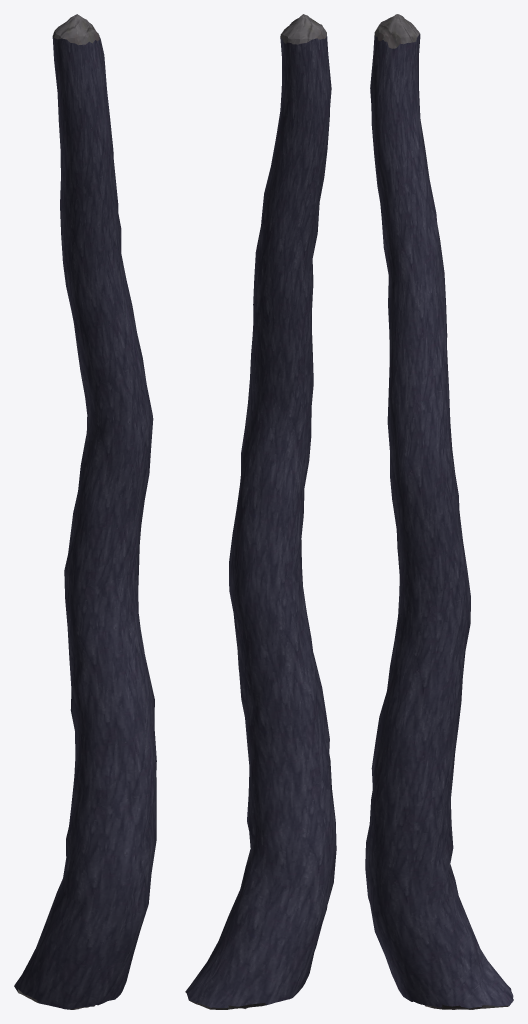
3 renders of one model, left to right at view 1: azimuth 90°, elevation 25°; view 2: azimuth 150°, elevation 25°; view 3: azimuth 330°, elevation 25°, orthographic. The views are drawn at different scales.
Parts seen in each view (by area): view 1: SM_Willow_03_full_LOD0; view 2: SM_Willow_03_full_LOD0; view 3: SM_Willow_03_full_LOD0.
Boxes of the visible parts, box(x1,y1,x2,y2) form: SM_Willow_03_full_LOD0: box(14, 14, 156, 1009); SM_Willow_03_full_LOD0: box(185, 14, 336, 1009); SM_Willow_03_full_LOD0: box(365, 14, 513, 1009).
Bounding box in the file's own units: 1.33 × 10.03 × 1.27.
Materials: 1 (1 with a texture image).
